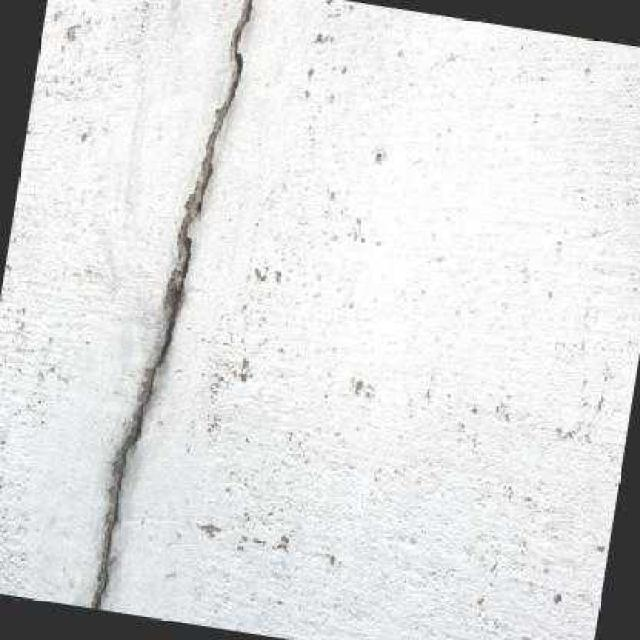D00: (90, 0, 253, 609)
